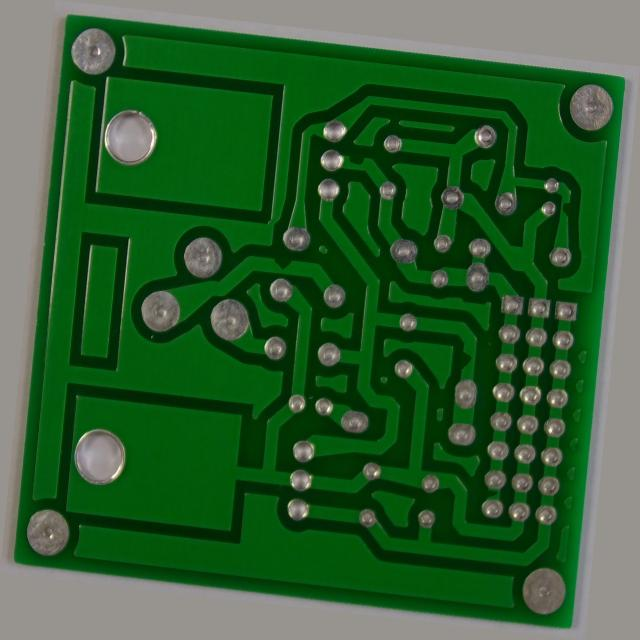mouse_bite: (329, 128, 357, 155), (257, 250, 288, 274), (473, 330, 497, 360), (563, 154, 584, 176), (514, 481, 537, 499)
